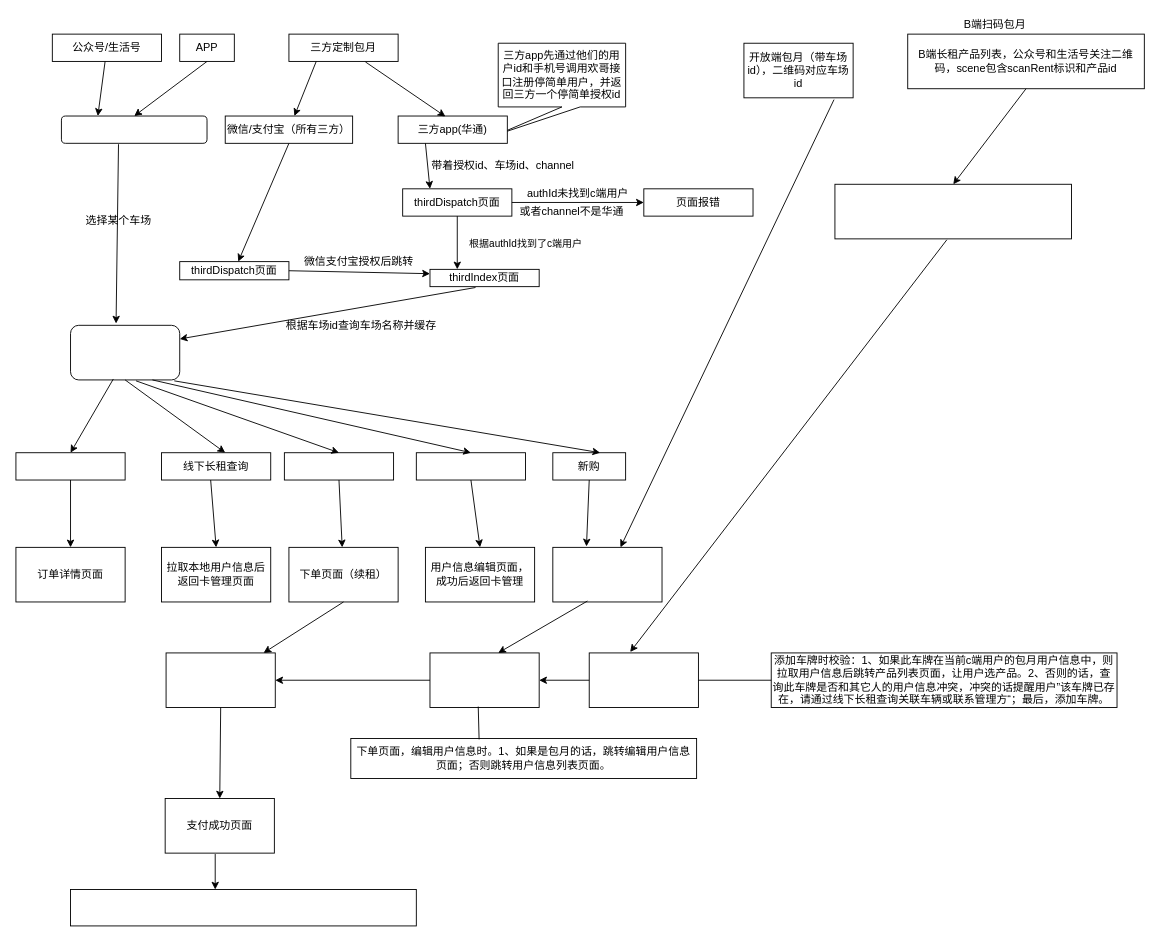
The diagram is 1160 pixels wide and 942 high, and some of its shapes have lost their labels. The centre of each missing label's shape, as x and y in pixels:
"下单页面（新购）" belongs at point (484, 680).
"产品列表页面" belongs at point (607, 574).
"关注后或进入公众号后，如果eventKey包含scanRent，则给用户推送文本提送，有超链接，点击进入添加用户信息页面" belongs at point (953, 211).
"卡管理页面" belongs at point (125, 352).
"开通包月的停车场列表页面" belongs at point (134, 129).
"支付成功页面。扫码包月的话点击按钮关闭页面；非扫码包月跳回卡管理页面" belongs at point (243, 907).
"支付页面" belongs at point (220, 680).
"添加用户信息页面" belongs at point (643, 680).
"用户信息修改" belongs at point (470, 466).
"续租" belongs at point (338, 466).
"订单记录" belongs at point (70, 466).
